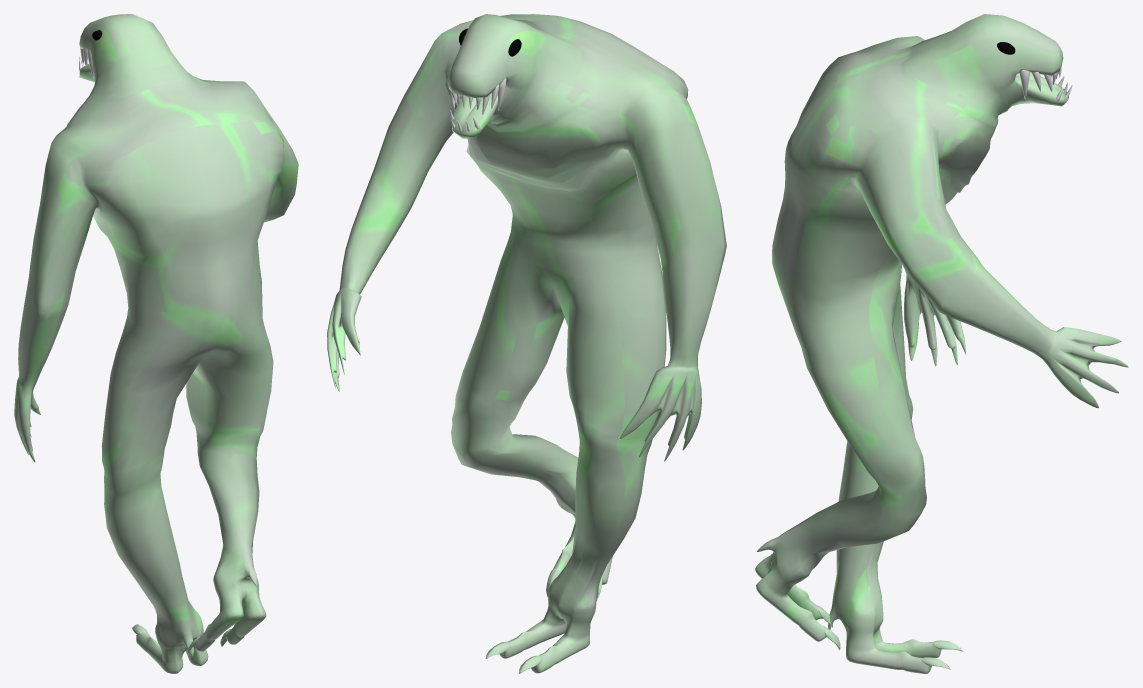
The model's file is Berserkerandar.0051.obj.
The picture shows the model from 3 angles, left to right: view 1: azimuth 30°, elevation 25°; view 2: azimuth 150°, elevation 25°; view 3: azimuth 270°, elevation 25°; orthographic projection. The views are drawn at different scales.
Visible parts, largest first — view 1: polySurface27; view 2: polySurface27; view 3: polySurface27.
Boxes of the visible parts, x1,y1,x2,y2 form: polySurface27: (14, 14, 298, 673); polySurface27: (327, 14, 726, 673); polySurface27: (755, 14, 1128, 673).
Size of the model in its own units: 11.43 by 23.59 by 12.39.
1 material, 1 textured.
